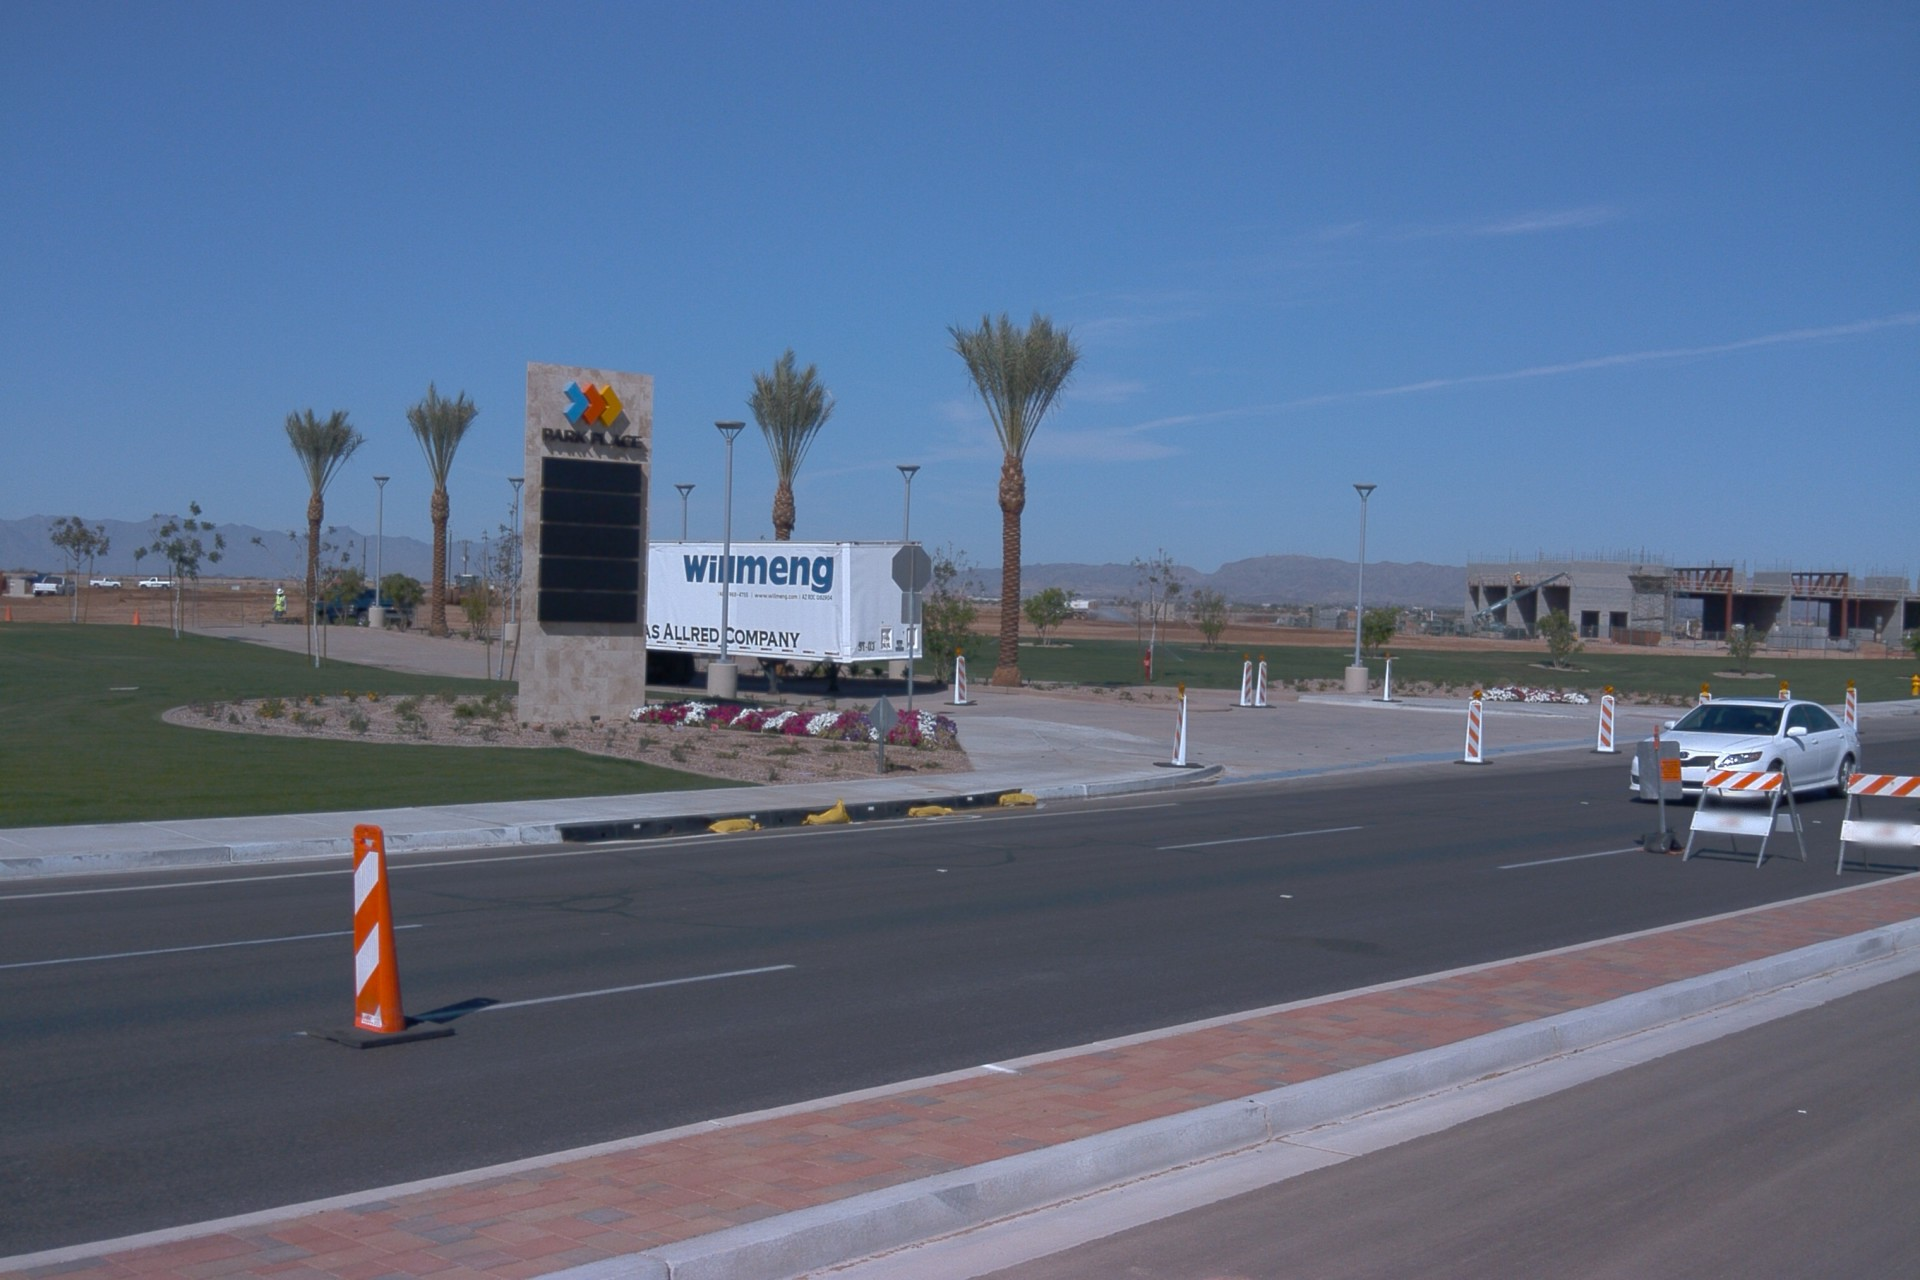TYPE_PEDESTRIAN: (271, 589, 288, 624)
TYPE_VEHICLE: (648, 535, 931, 699), (1628, 695, 1863, 809), (1470, 567, 1573, 630), (313, 578, 409, 627), (445, 571, 495, 604), (33, 572, 82, 593), (1060, 594, 1091, 616), (136, 575, 178, 589), (84, 575, 126, 589)
